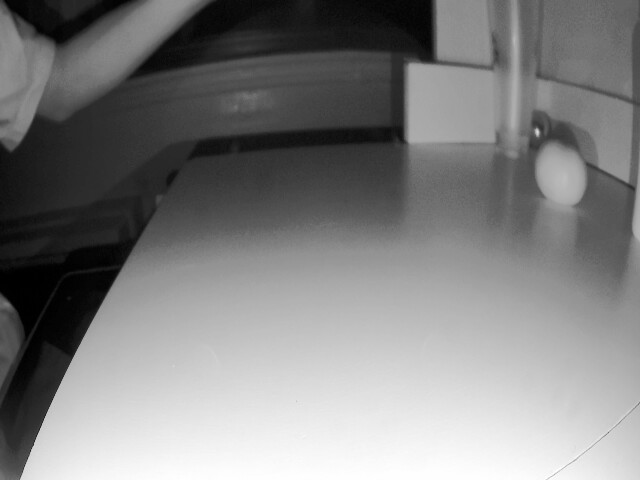silver: (527, 109, 552, 155)
